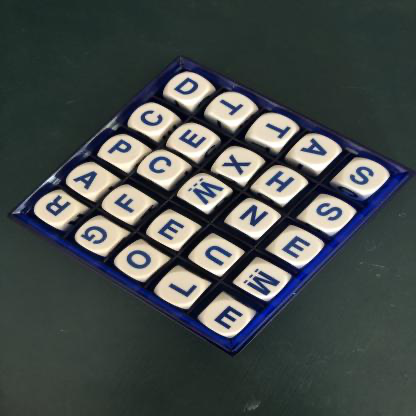a: (68, 164, 109, 197), (295, 136, 337, 167)
c: (142, 152, 185, 183), (133, 105, 173, 133)
d: (171, 74, 212, 102)
e: (205, 300, 251, 336), (277, 230, 322, 264), (150, 215, 194, 246), (173, 125, 215, 155)
f: (106, 187, 150, 219)
g: (77, 219, 121, 250)
h: (260, 169, 303, 200)
l: (160, 272, 204, 306)
m: (240, 264, 288, 299)
n: (234, 202, 277, 235)
o: (118, 246, 161, 278)
p: (104, 136, 144, 166)
r: (37, 193, 80, 225)
s: (308, 198, 353, 231), (343, 161, 387, 193)
t: (253, 115, 298, 146), (211, 94, 256, 123)
u: (193, 239, 240, 273)
w: (182, 176, 228, 209)
x: (216, 149, 261, 179)
